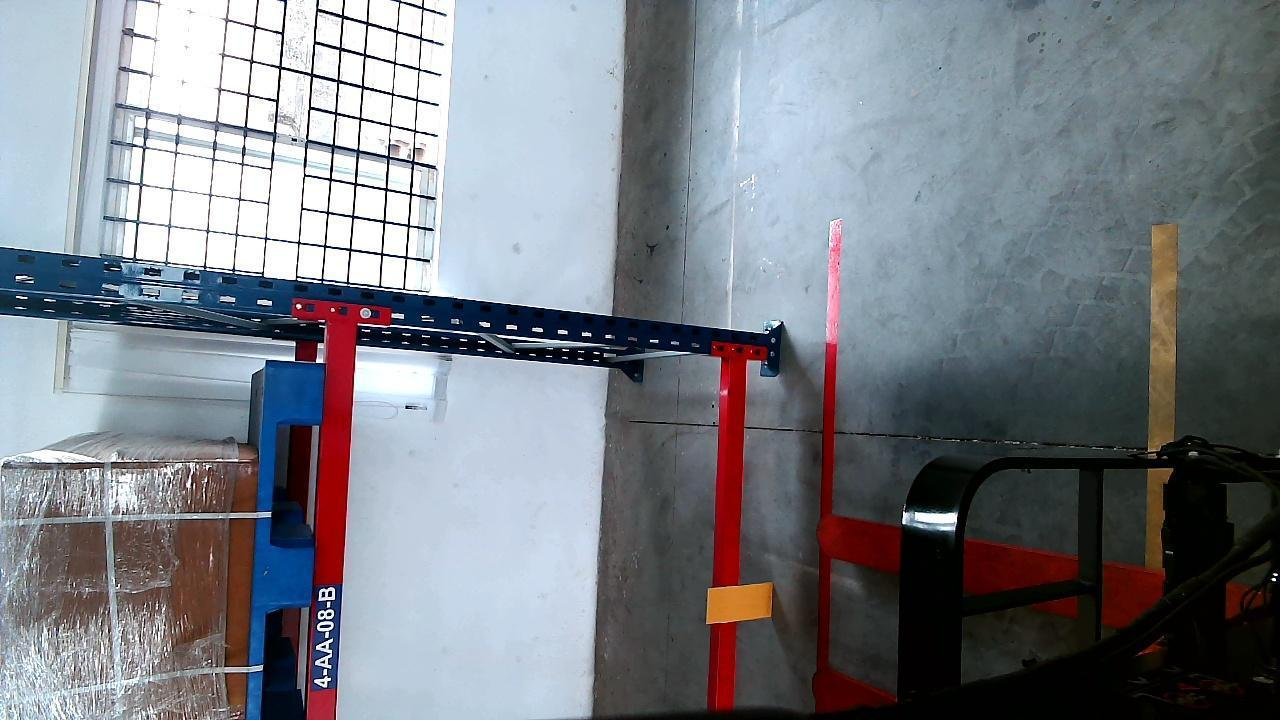h_rack: (308, 325, 354, 720), (713, 358, 746, 704)
orange_strip: (708, 582, 774, 623)
red_line: (811, 200, 846, 720)
small_pallet: (246, 352, 321, 720)
yellow_line: (1144, 216, 1178, 571)
